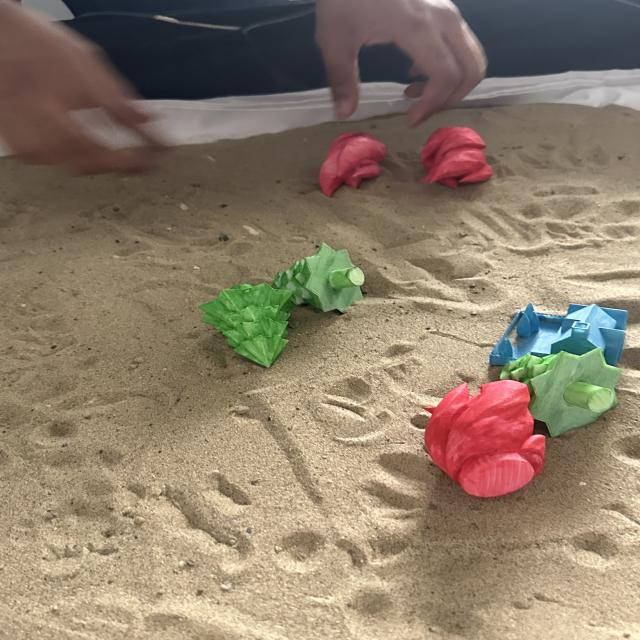fire: (420, 377, 548, 499), (421, 122, 494, 187), (320, 128, 386, 197)
house: (487, 300, 629, 368)
tree: (504, 350, 624, 438), (195, 281, 291, 369), (274, 243, 370, 314)
